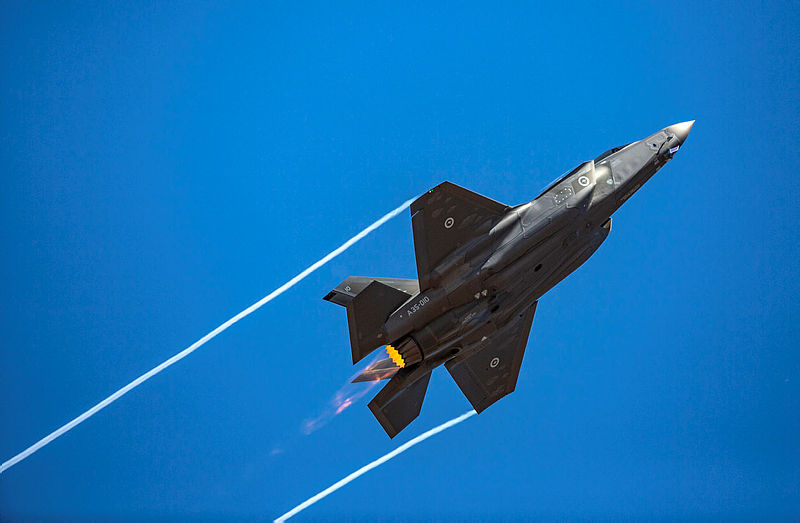F-35 Lightning: (311, 116, 700, 438)
